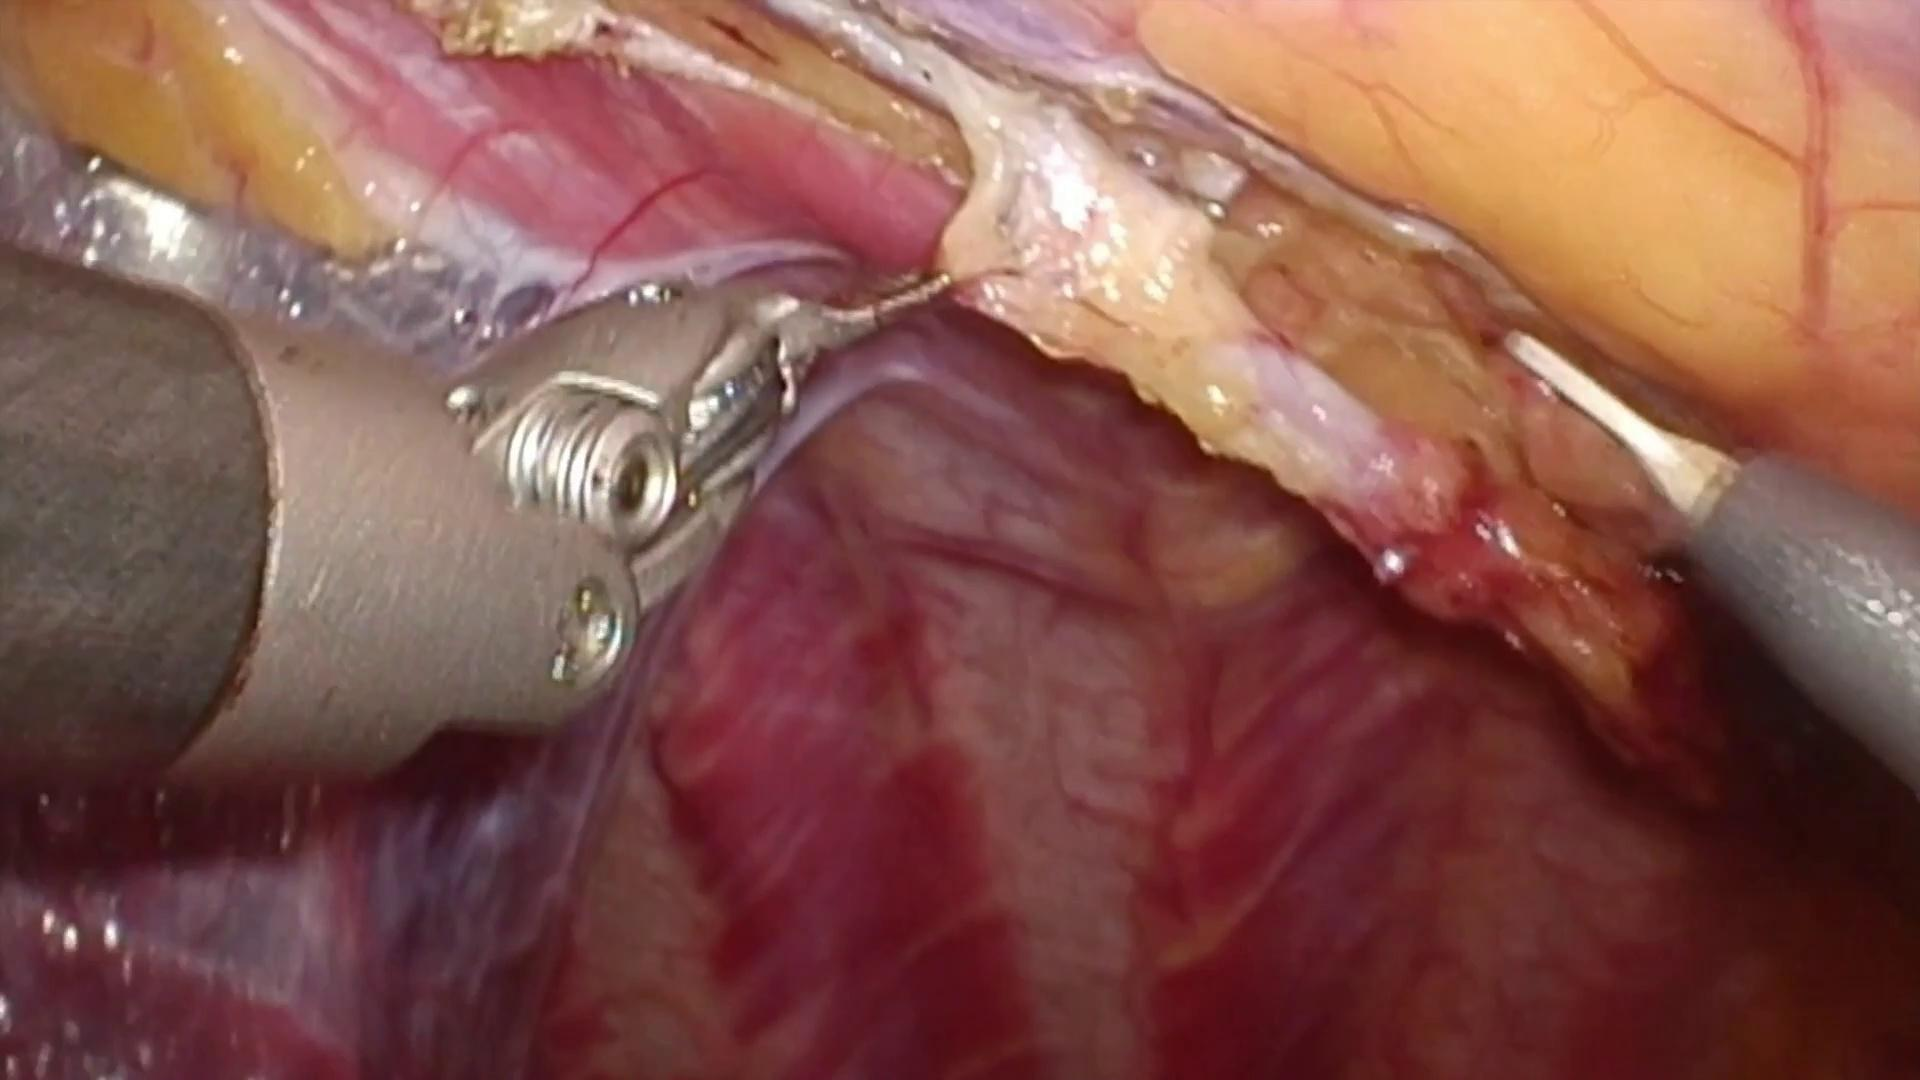Cautery_Spatula: (1501, 322, 1920, 845)
Debakey: (736, 265, 959, 382)
